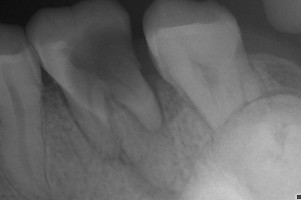Furcation Involvement: (104, 141, 181, 200)
